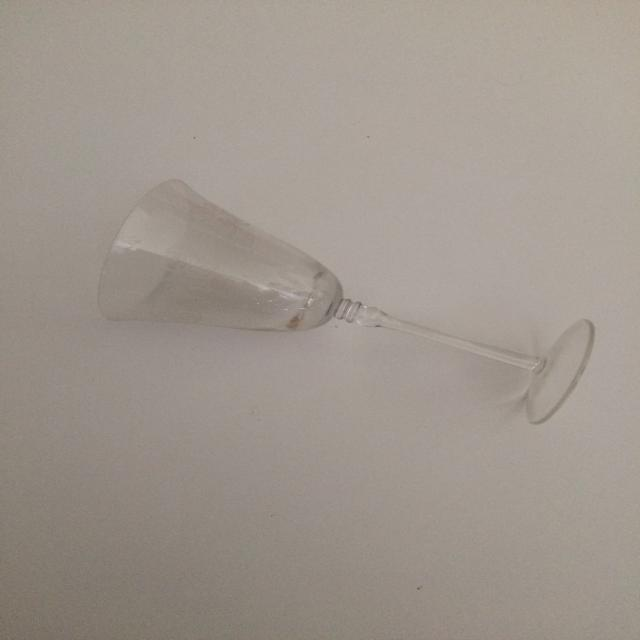glass: (97, 178, 595, 425)
